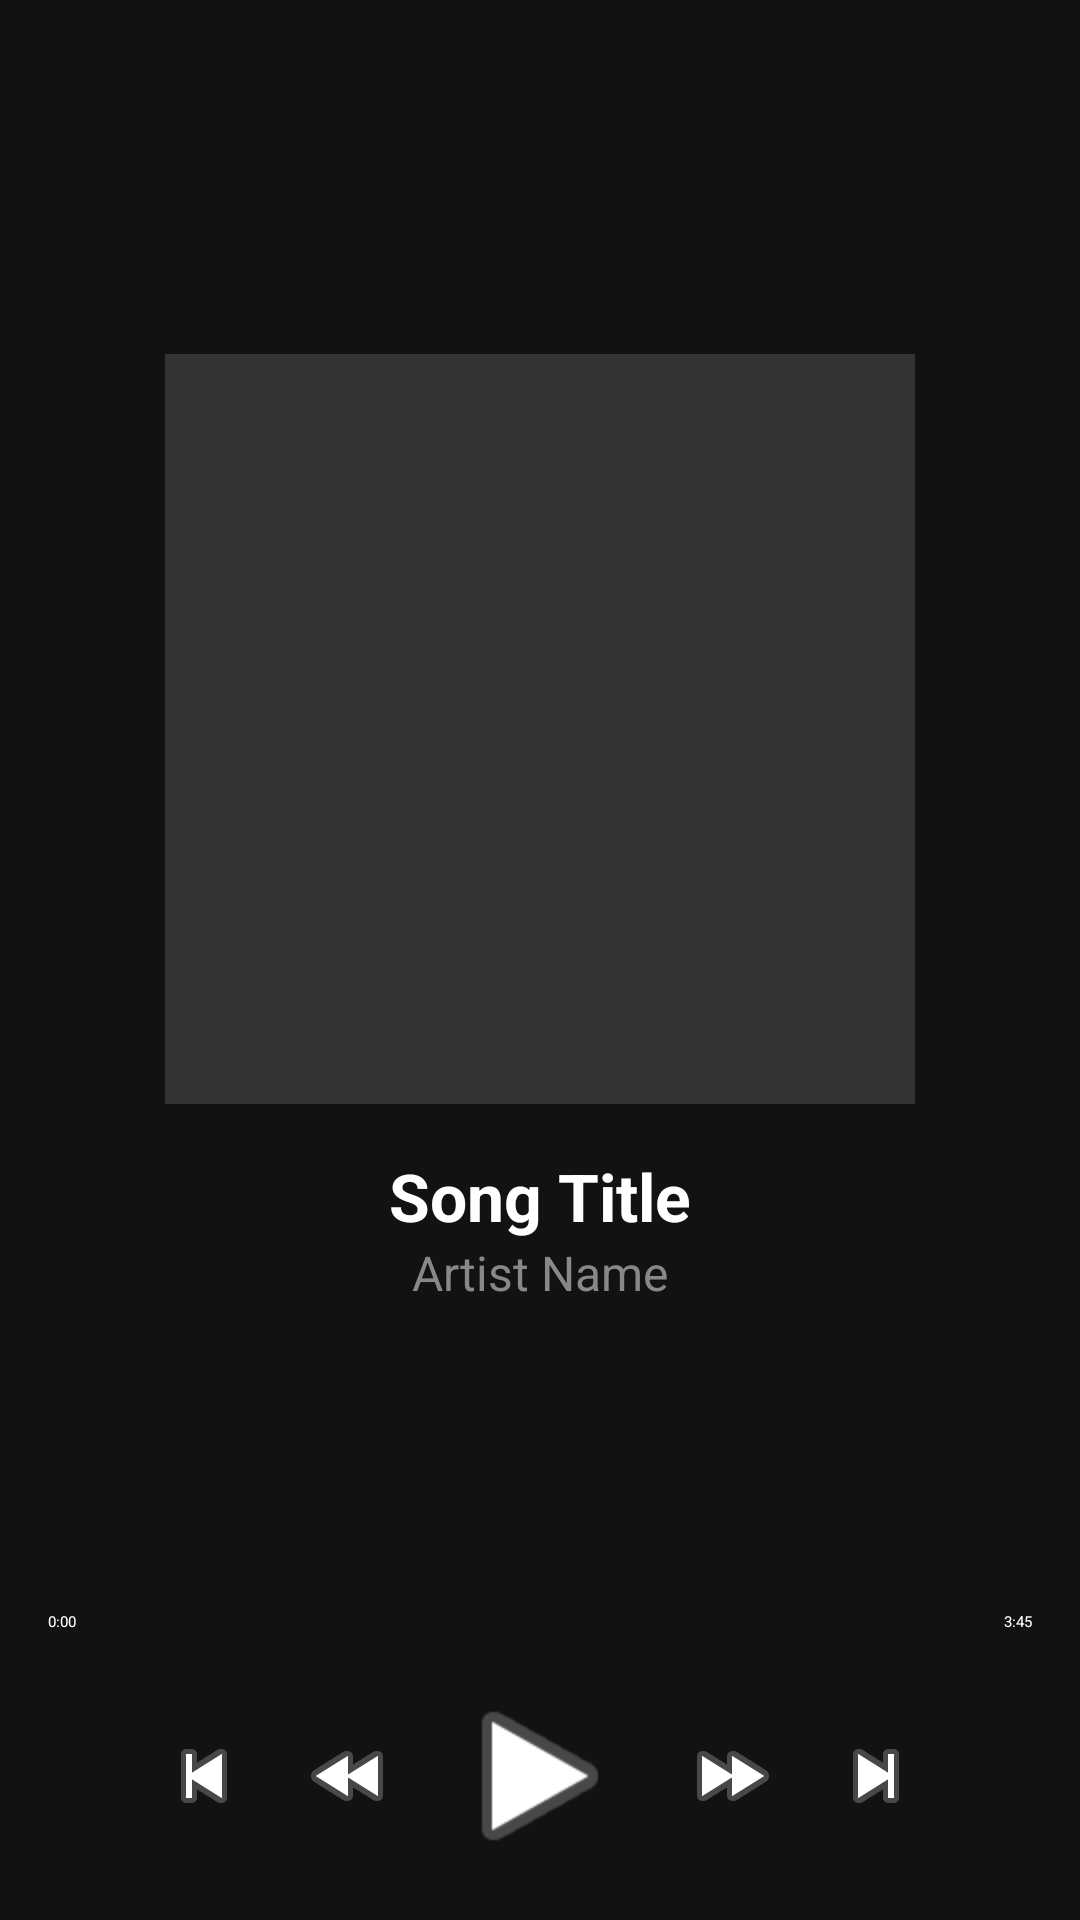

Point at icon controls on the screen. Image size 1080 × 1920, points as (x,y).
Play/Pause: (540,1776)
